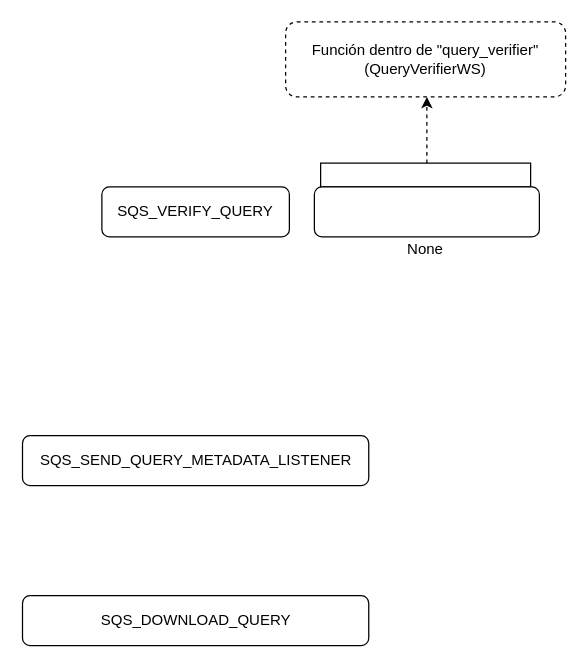
The diagram is 588 pixels wide and 668 high, and some of its shapes have lost their labels. Each missing label, with the centre of its shape:
"PARALLEL_VERIFY" goes at point (426, 211).
"queries" goes at point (425, 174).
